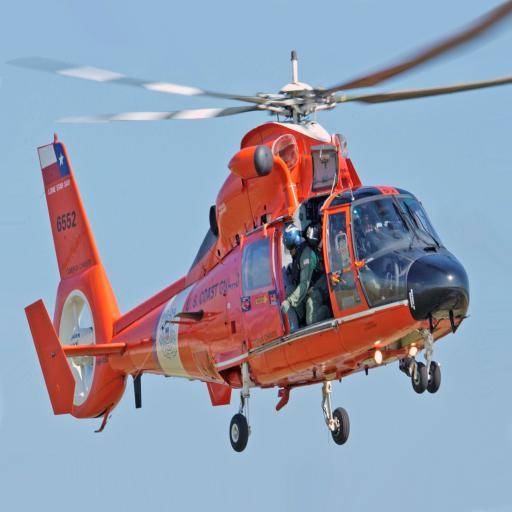helicopter: (19, 42, 479, 450)
